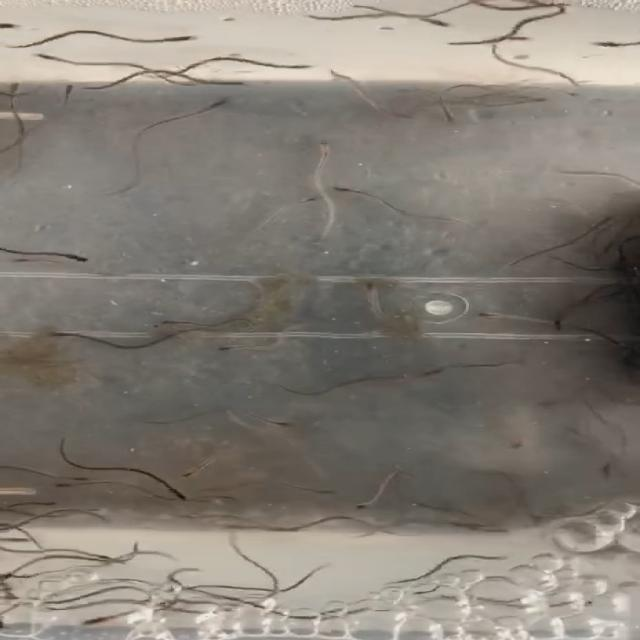active_glass_eel: (232, 410, 300, 431), (324, 183, 371, 206), (350, 270, 387, 298), (193, 94, 237, 115), (300, 138, 344, 156), (490, 354, 526, 376), (176, 31, 210, 51), (416, 16, 453, 34), (65, 249, 95, 271), (42, 322, 72, 343), (6, 75, 34, 97), (539, 314, 573, 332), (174, 462, 207, 479), (204, 343, 247, 356), (437, 112, 471, 128), (292, 186, 316, 206), (34, 50, 64, 64), (71, 474, 103, 486), (162, 491, 206, 499), (359, 499, 380, 514), (599, 40, 621, 52), (52, 84, 84, 92), (157, 314, 175, 326), (54, 482, 75, 490)
